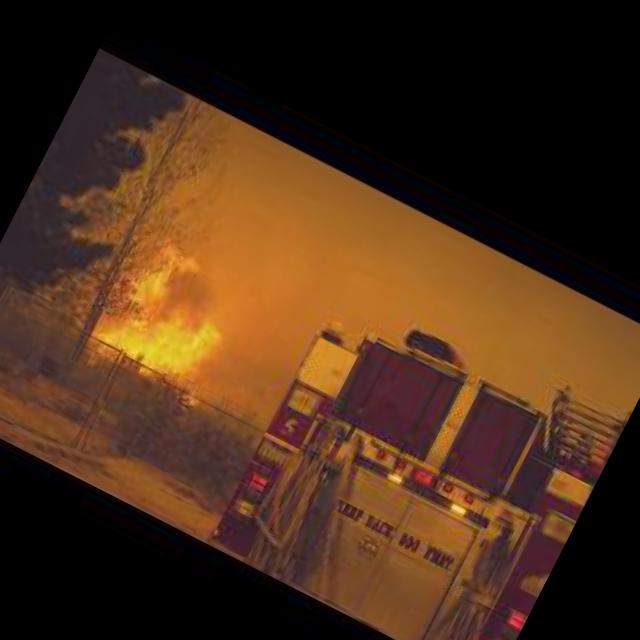fire: (77, 216, 266, 414)
